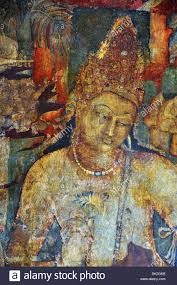Bodhisatva Padampani: (1, 4, 177, 266)
